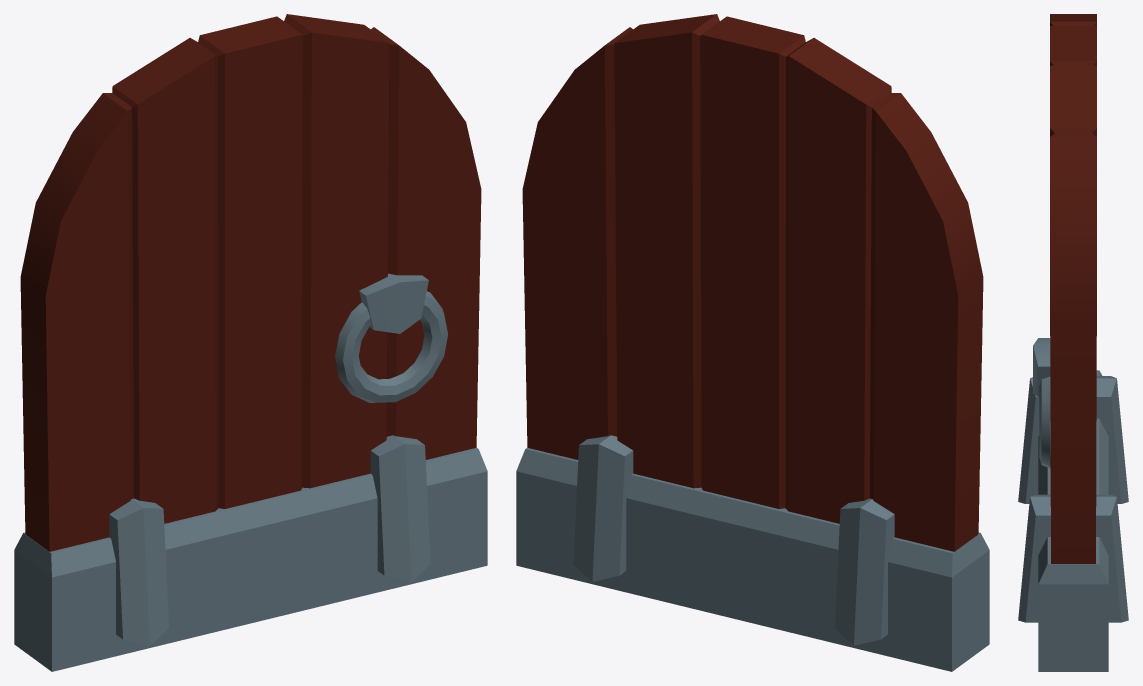
The model's file is door.obj.
3 views of the same model, side by side, from view 1: azimuth 30°, elevation 25°; view 2: azimuth 150°, elevation 25°; view 3: azimuth 270°, elevation 25° (orthographic). The views are drawn at different scales.
Visible parts, largest first — view 1: door_Cube.2624; view 2: door_Cube.2624; view 3: door_Cube.2624.
Part boxes in pixels (box(x1,y1,x2,y2)): door_Cube.2624: box(14, 14, 487, 671); door_Cube.2624: box(516, 14, 989, 671); door_Cube.2624: box(1018, 14, 1128, 671).
Bounding box in the file's own units: 2 × 2.5 × 0.4738.
